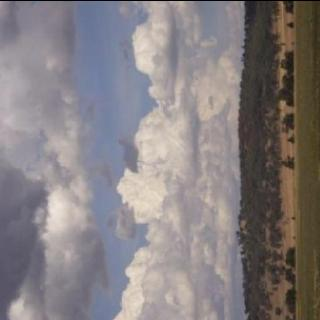Cumulus: (0, 0, 243, 320)
